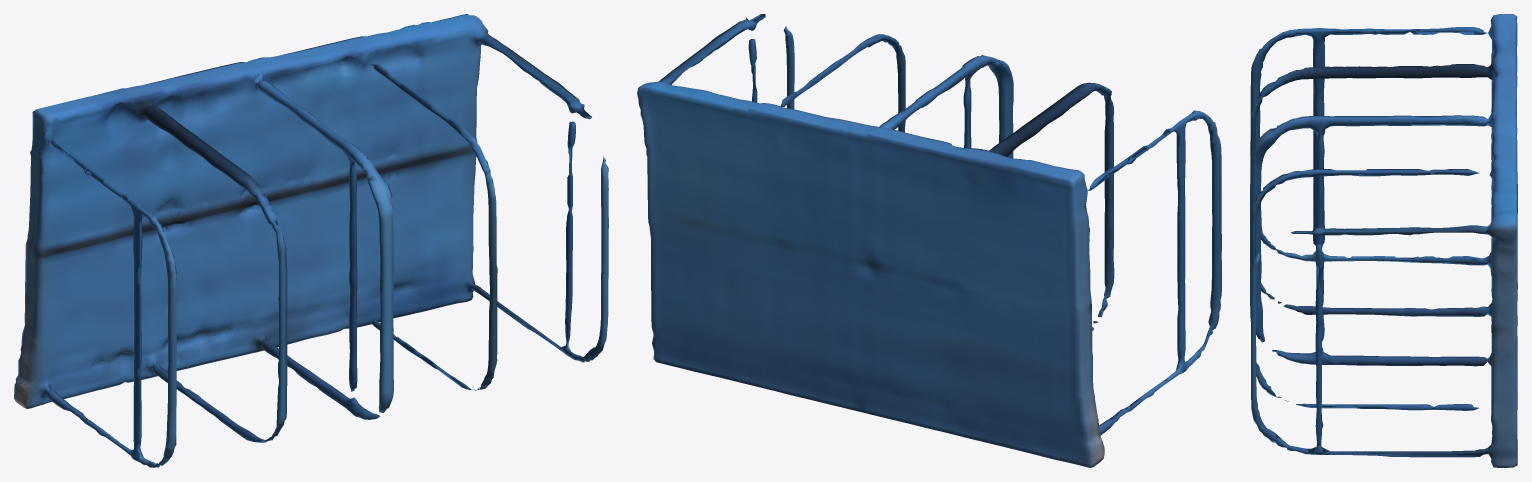
File: sorter.glb
The picture shows the model from 3 angles, left to right: view 1: azimuth 30°, elevation 25°; view 2: azimuth 150°, elevation 25°; view 3: azimuth 270°, elevation 25°; orthographic projection. The views are drawn at different scales.
Bounding box in the file's own units: 0.9991 × 0.5922 × 0.5438.
